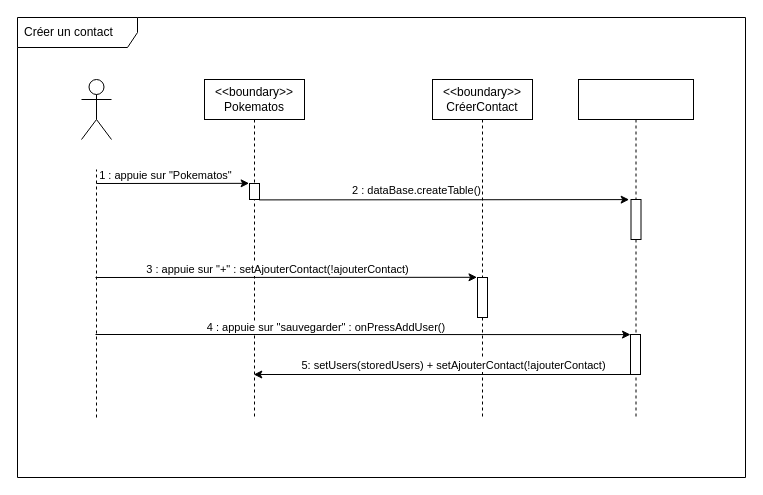
The diagram is 763 pixels wide and 495 high, and some of its shapes have lost their labels. Each missing label, with the box of its shape:
: utilisateur: (80, 78, 112, 140)
<<Control>> PokestackDataBase: (578, 78, 694, 418)
